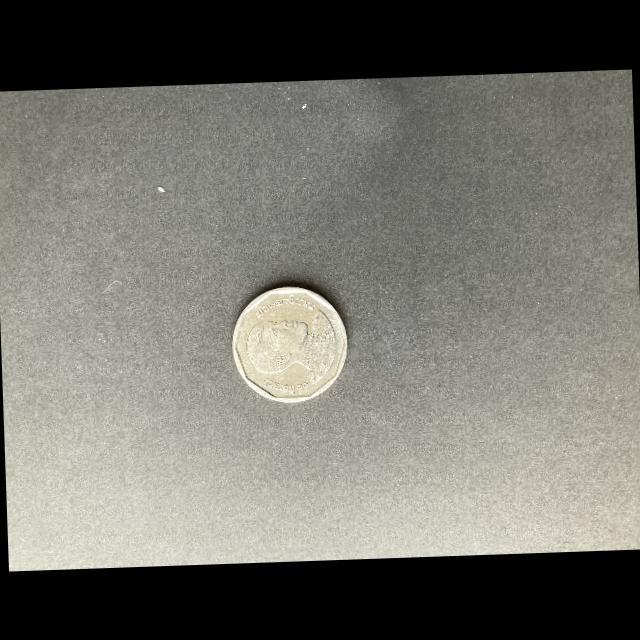5 Bath: (230, 284, 354, 409)
